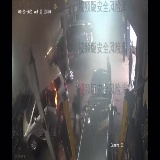fire: (51, 82, 61, 119)
